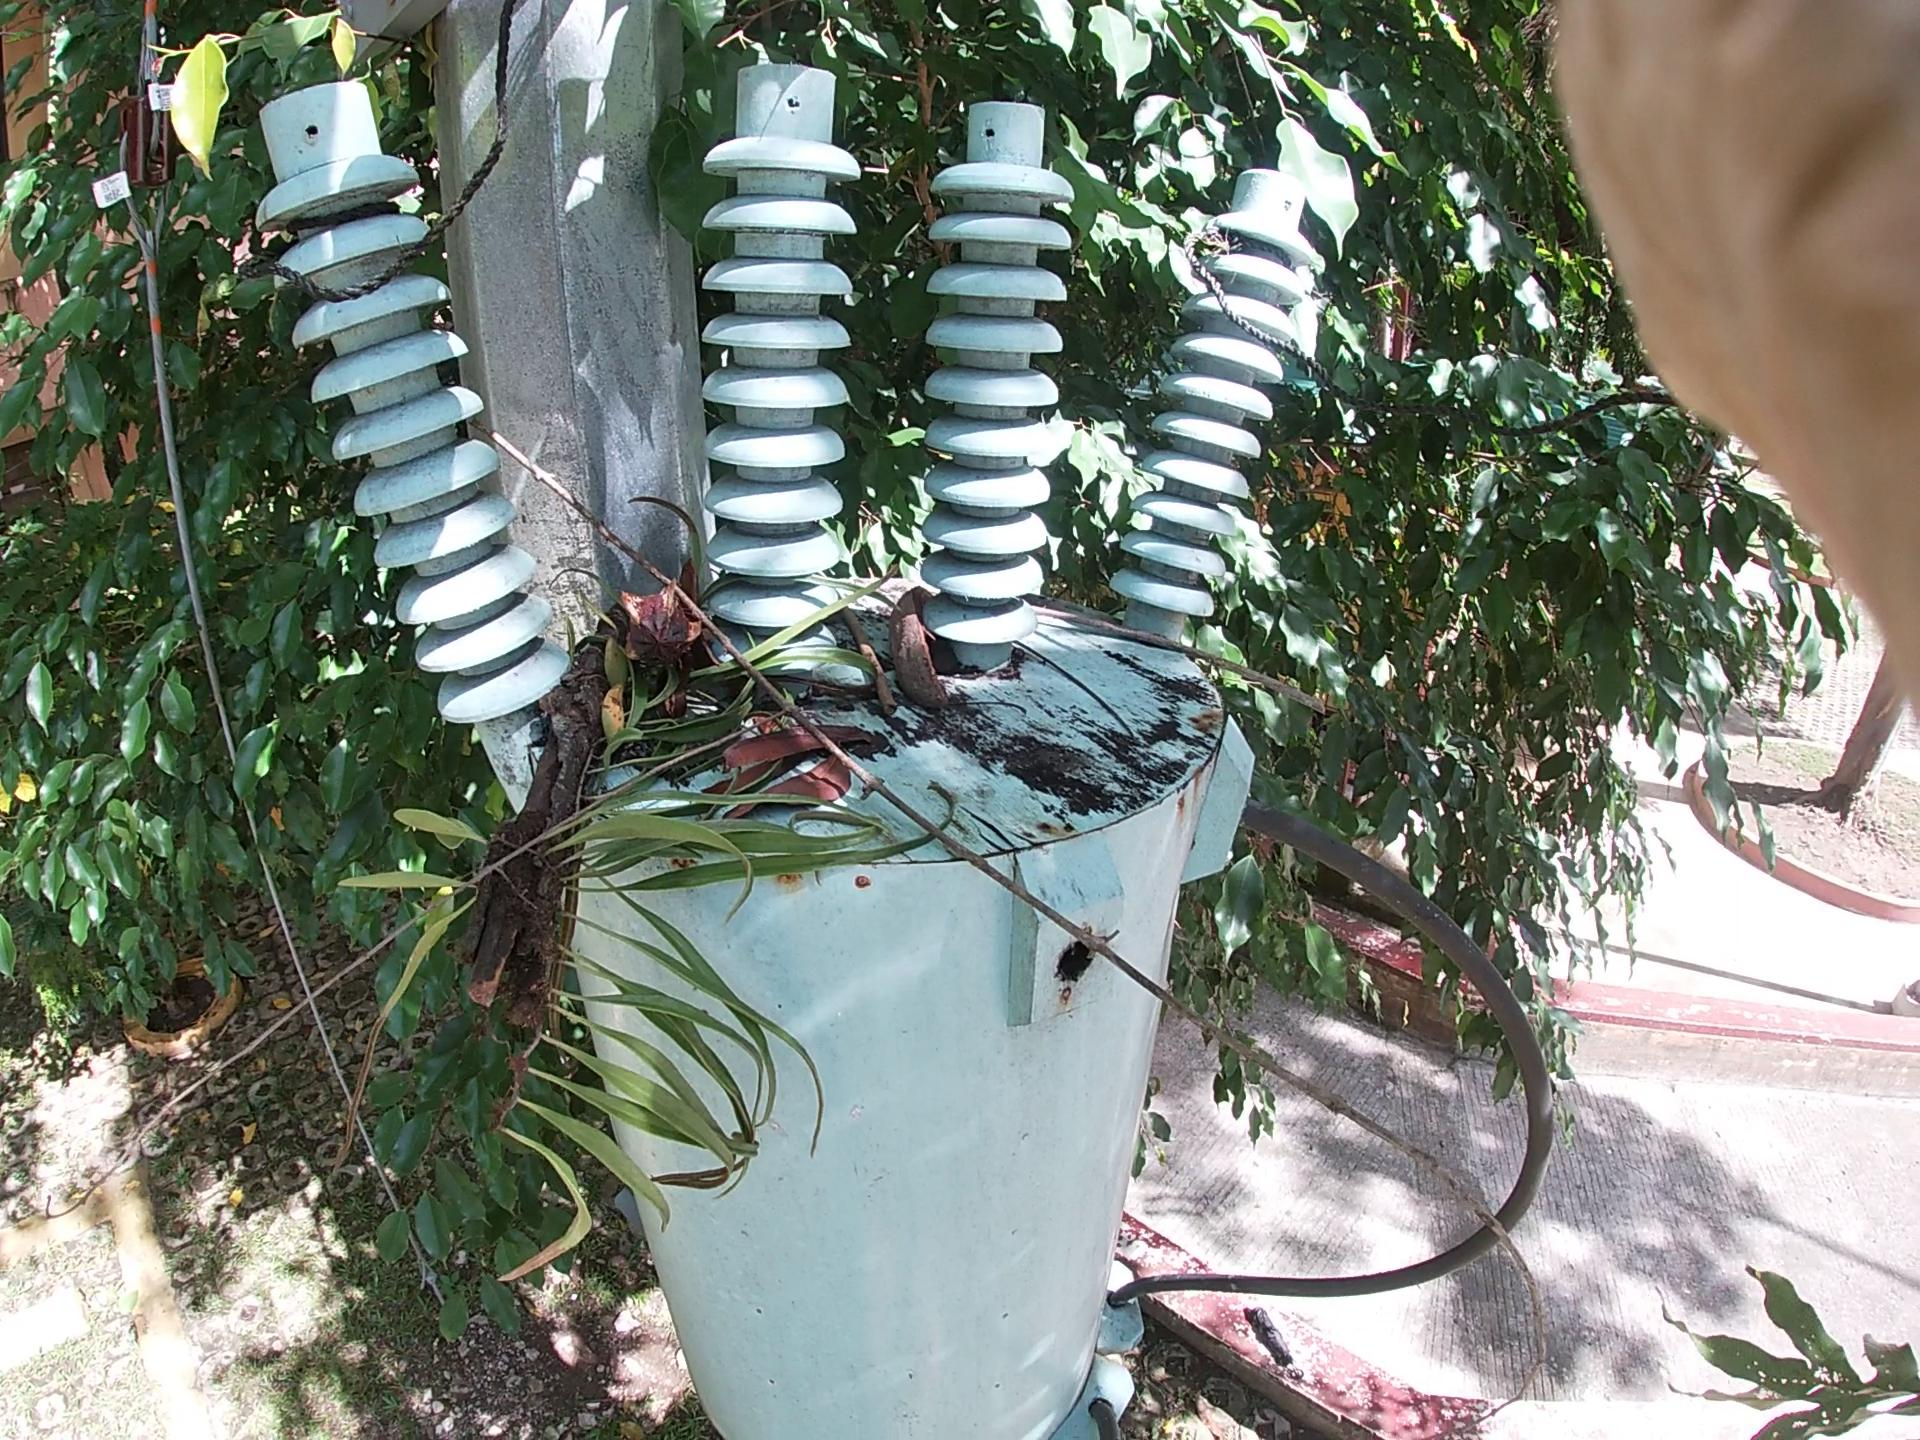branch with leaves: (348, 352, 999, 1212)
leaf: (206, 2, 1580, 535)
mahogany fruit: (590, 532, 750, 722), (844, 563, 986, 734)
tree branch: (379, 299, 1640, 1311), (470, 424, 1512, 1260), (906, 520, 1482, 781)
